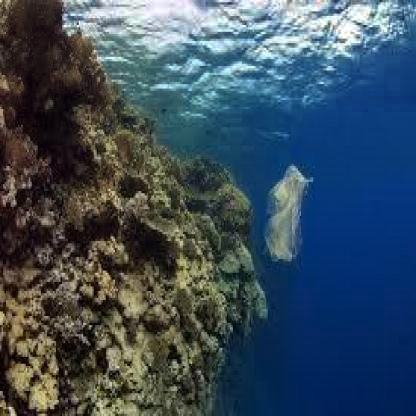pbag: (263, 161, 315, 266)
